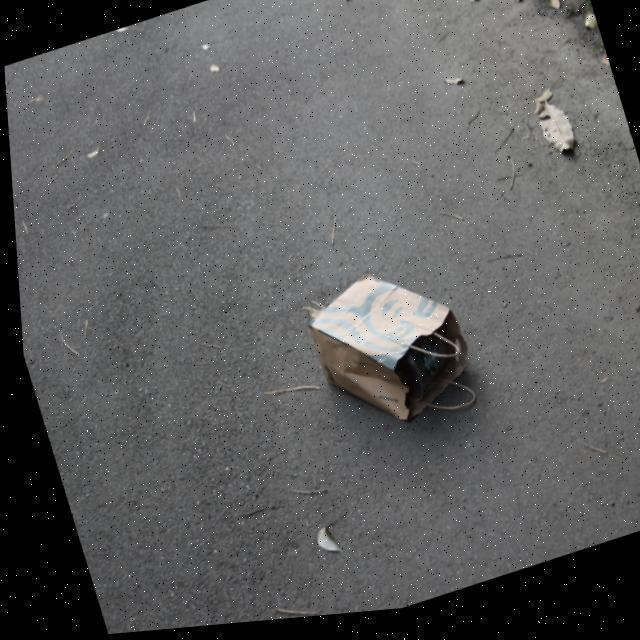Paper_Bag: (292, 256, 479, 454)
